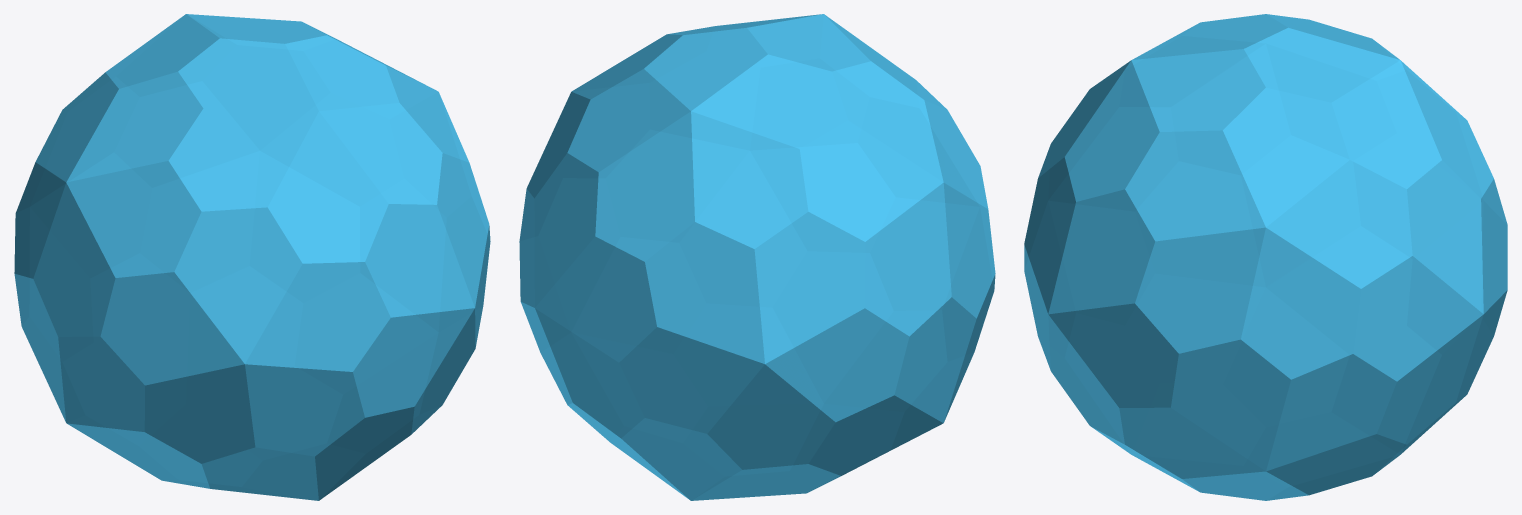
The model's file is PentagonalHexecontahedron.obj.
3 renders of one model, left to right at view 1: azimuth 30°, elevation 25°; view 2: azimuth 150°, elevation 25°; view 3: azimuth 270°, elevation 25°, orthographic.
Bounding box in the file's own units: 4.19 × 4.19 × 4.19.
